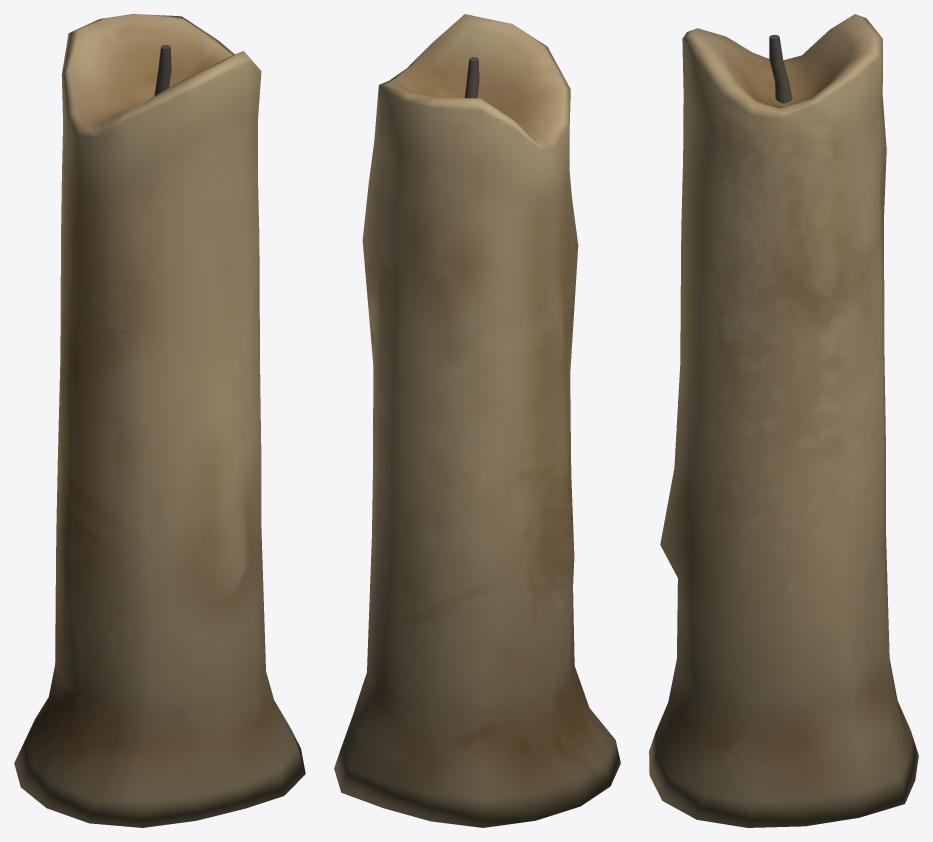
File: SM_candleB_a1.fbx
3 views of the same model, side by side, from view 1: azimuth 30°, elevation 25°; view 2: azimuth 150°, elevation 25°; view 3: azimuth 270°, elevation 25° (orthographic). The views are drawn at different scales.
Parts seen in each view (by area): view 1: SM_candleB_a1_LOD0; view 2: SM_candleB_a1_LOD0; view 3: SM_candleB_a1_LOD0.
Part boxes in pixels (x1,y1,x2,y2): SM_candleB_a1_LOD0: (14, 14, 305, 827); SM_candleB_a1_LOD0: (334, 14, 620, 827); SM_candleB_a1_LOD0: (649, 14, 918, 827).
Bounding box in the file's own units: 8.01 × 7.34 × 22.32.
1 material, 1 textured.
